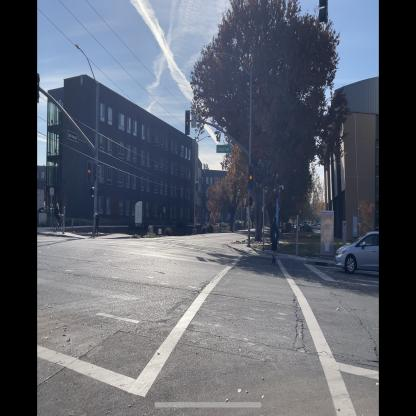left-yellow: (86, 157, 93, 185)
yellow: (247, 161, 254, 191), (184, 108, 190, 138)
